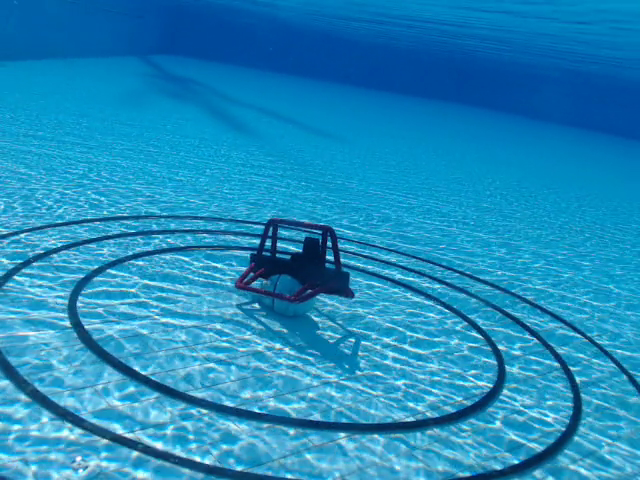submarine: (233, 216, 357, 305)
